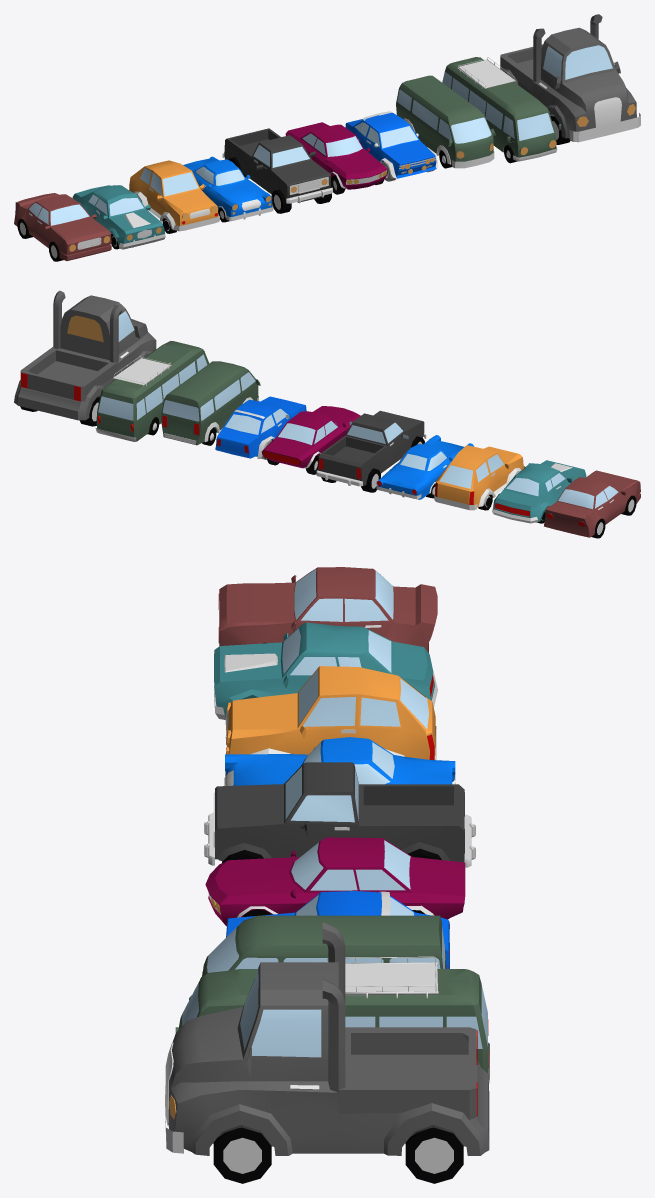
Rendered from Car.glb.
3 views of the same model, one above another, from view 1: azimuth 30°, elevation 25°; view 2: azimuth 150°, elevation 25°; view 3: azimuth 270°, elevation 25° (orthographic). The views are drawn at different scales.
Parts seen in each view (by area): view 1: 2Body, 10Body, 9Body, 6Body, 1Body, 4Wheels, 7Body, 8Body, 3Body, 5Body, 6Wheels, 1Wheels; view 2: 2Body, 10Body, 9Body, 6Body, 1Body, 4Wheels, 7Body, 3Body, 8Body, 5Body, 6Wheels, 1Wheels; view 3: 2Body, 6Body, 4Wheels, 7Body, 1Body, 10Body, 3Body, 9Body, 5Body, 2Wheels, 8Body.
Boxes of the visible parts, x1,y1,x2,y2 form: 2Body: [500, 14, 640, 142]; 10Body: [442, 57, 561, 161]; 9Body: [396, 75, 495, 168]; 6Body: [222, 128, 332, 203]; 1Body: [14, 193, 111, 260]; 4Wheels: [129, 160, 219, 231]; 7Body: [285, 122, 387, 189]; 8Body: [345, 111, 438, 178]; 3Body: [72, 185, 165, 249]; 5Body: [183, 156, 273, 221]; 6Wheels: [229, 157, 331, 213]; 1Wheels: [17, 219, 63, 261]; 2Body: [14, 290, 156, 420]; 10Body: [95, 341, 209, 441]; 9Body: [161, 361, 260, 445]; 6Body: [316, 410, 426, 486]; 1Body: [544, 470, 640, 537]; 4Wheels: [434, 445, 525, 510]; 7Body: [261, 406, 360, 468]; 3Body: [492, 460, 586, 523]; 8Body: [215, 396, 306, 458]; 5Body: [376, 435, 473, 499]; 6Wheels: [321, 436, 424, 492]; 1Wheels: [591, 495, 636, 538]; 2Body: [165, 922, 489, 1155]; 6Body: [204, 762, 475, 867]; 4Wheels: [225, 666, 436, 760]; 7Body: [205, 837, 465, 926]; 1Body: [218, 567, 437, 652]; 10Body: [175, 956, 489, 1083]; 3Body: [214, 622, 437, 719]; 9Body: [202, 915, 446, 976]; 5Body: [224, 737, 455, 785]; 2Wheels: [213, 1127, 463, 1183]; 8Body: [226, 891, 449, 968].
Bounding box in the file's own units: 4.05 × 0.6912 × 1.01.
Materials: 17 (1 with a texture image).
